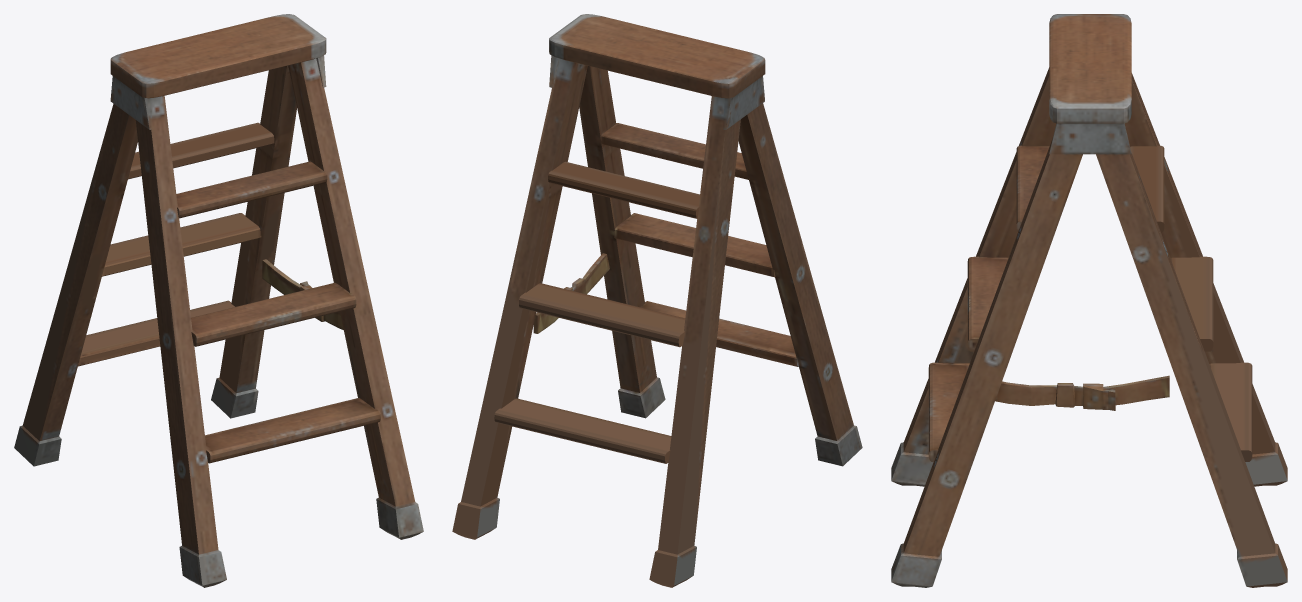
The model's file is Ladder.fbx.
The picture shows the model from 3 angles, left to right: view 1: azimuth 30°, elevation 25°; view 2: azimuth 150°, elevation 25°; view 3: azimuth 270°, elevation 25°; orthographic projection. The views are drawn at different scales.
Visible parts, largest first — view 1: Ladder_Low; view 2: Ladder_Low; view 3: Ladder_Low.
Part boxes in pixels (x1,y1,x2,y2): Ladder_Low: (14,14,423,587); Ladder_Low: (452,14,862,587); Ladder_Low: (891,14,1287,587).
Size of the model in its own units: 0.6595 by 1.28 by 0.9709.
